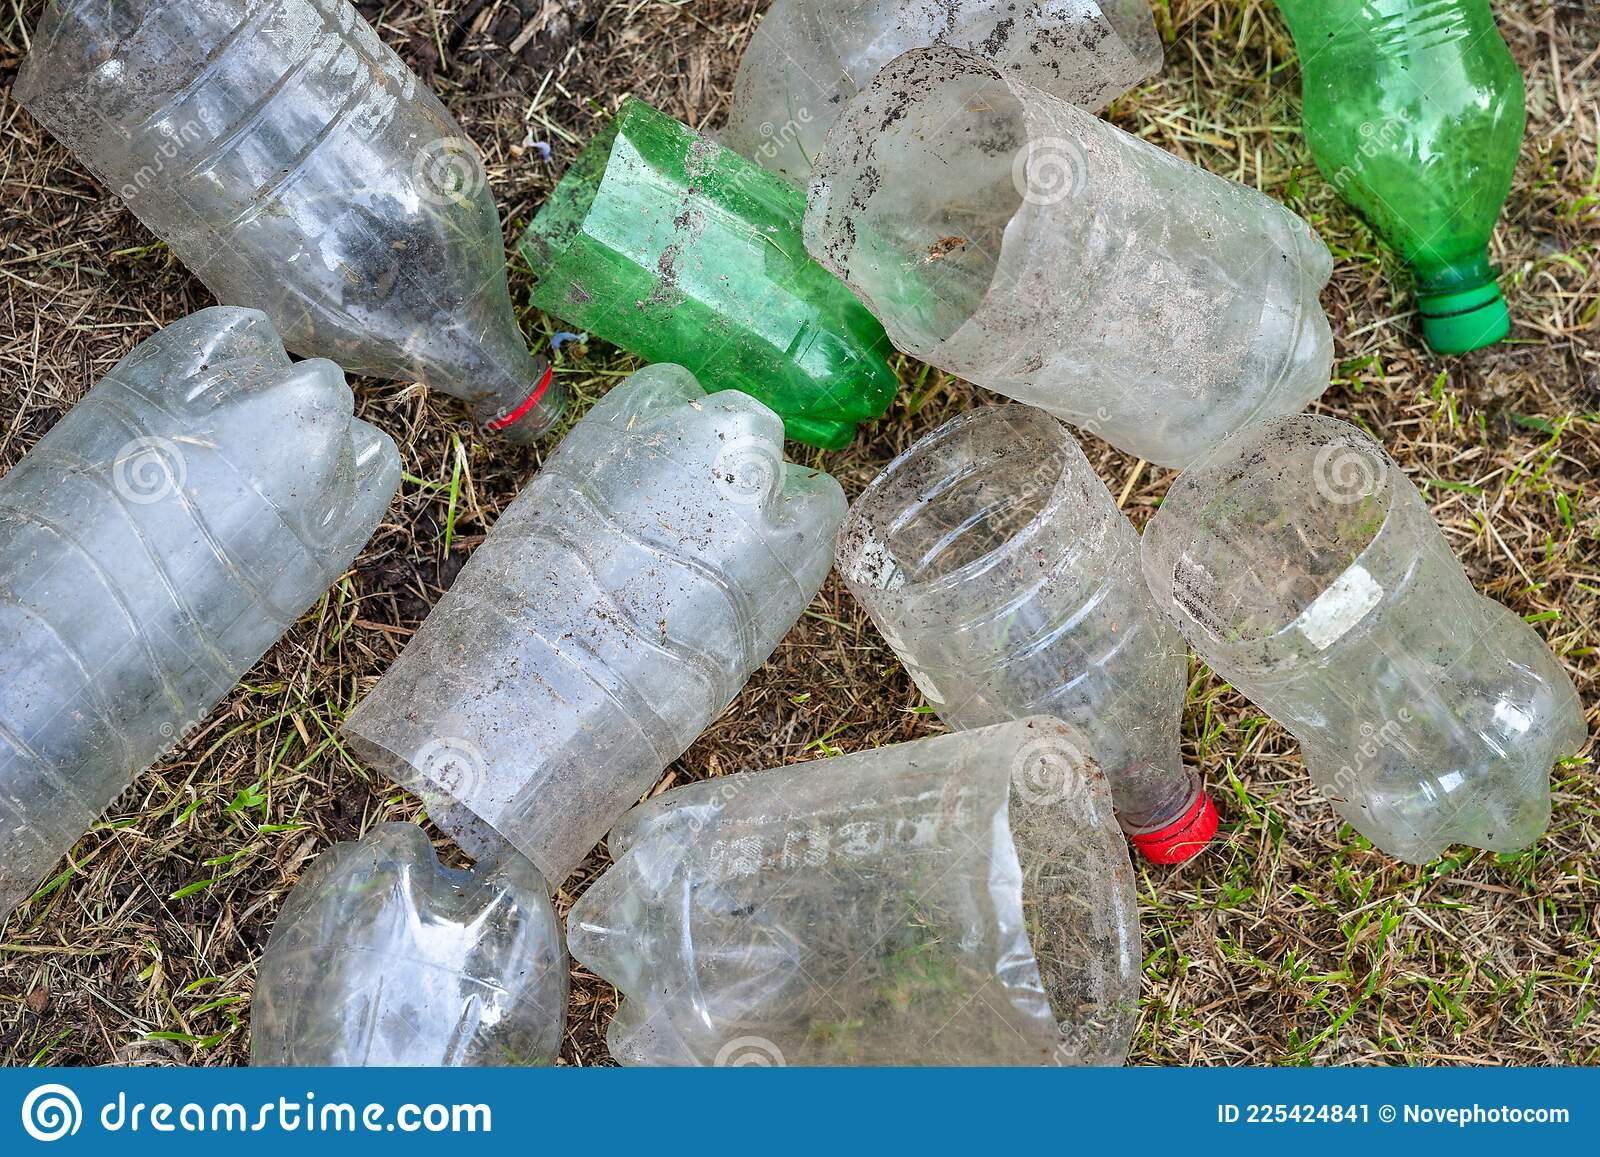plastic: (344, 365, 848, 899), (0, 304, 407, 926), (840, 34, 1339, 473), (1142, 410, 1590, 867), (1267, 0, 1530, 357), (247, 828, 566, 1069)
